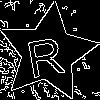R: (22, 27, 66, 79)
